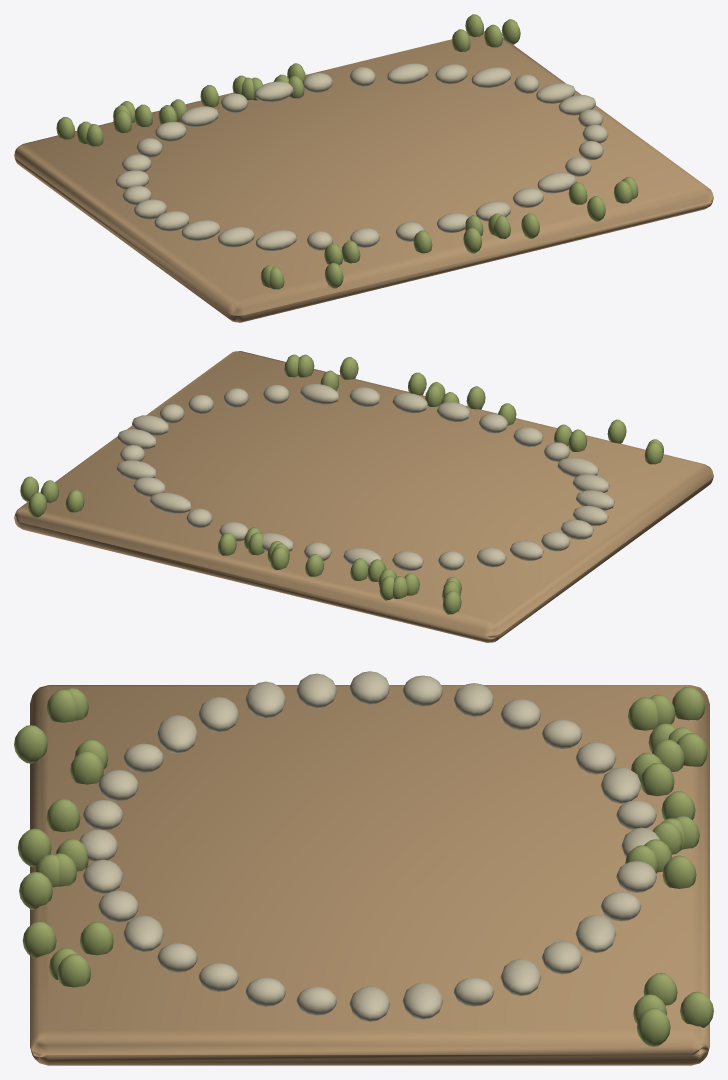
File: excavation.glb
The picture shows the model from 3 angles, top to bottom: view 1: azimuth 30°, elevation 25°; view 2: azimuth 150°, elevation 25°; view 3: azimuth 270°, elevation 25°; orthographic projection. The views are drawn at different scales.
Visible parts, largest first — view 1: Earth base, Edge stone.005, Edge stone.020, Edge stone.003, Edge stone.008, Edge stone.018, Edge stone.027, Edge stone.010, Edge stone.001, Edge stone.019, Edge stone.017, Edge stone (+7 smaller); view 2: Earth base, Edge stone.005, Edge stone.027, Edge stone.020, Edge stone.003, Edge stone.001, Edge stone.018, Edge stone.025, Edge stone, Edge stone.014, Edge stone.017, Edge stone.024 (+9 smaller); view 3: Earth base, Edge stone.005, Edge stone.020, Edge stone.003, Edge stone.027, Edge stone.001, Edge stone.018, Edge stone.010, Edge stone, Edge stone.019, Edge stone.017, Edge stone.025 (+40 smaller).
Boxes of the visible parts, left/top/right/bottom form: Earth base: left=14, top=31, right=713, bottom=322; Edge stone.005: left=387, top=63, right=428, bottom=84; Edge stone.020: left=255, top=230, right=297, bottom=250; Edge stone.003: left=471, top=67, right=511, bottom=87; Edge stone.008: left=254, top=81, right=293, bottom=102; Edge stone.018: left=181, top=220, right=220, bottom=240; Edge stone.027: left=537, top=172, right=576, bottom=193; Edge stone.010: left=180, top=106, right=218, bottom=126; Edge stone.001: left=536, top=83, right=575, bottom=103; Edge stone.019: left=218, top=227, right=254, bottom=247; Edge stone.017: left=154, top=211, right=189, bottom=231; Edge stone: left=558, top=95, right=595, bottom=115; Earth base: left=14, top=351, right=713, bottom=642; Edge stone.005: left=150, top=492, right=191, bottom=513; Edge stone.027: left=300, top=384, right=339, bottom=404; Edge stone.020: left=557, top=457, right=598, bottom=477; Edge stone.003: left=116, top=460, right=156, bottom=480; Edge stone.001: left=117, top=429, right=156, bottom=449; Edge stone.018: left=576, top=490, right=614, bottom=510; Edge stone.025: left=392, top=393, right=427, bottom=413; Edge stone: left=132, top=415, right=169, bottom=435; Edge stone.014: left=510, top=540, right=543, bottom=560; Edge stone.017: left=573, top=505, right=608, bottom=526; Edge stone.024: left=436, top=402, right=470, bottom=422; Earth base: left=30, top=685, right=709, bottom=1065; Edge stone.005: left=575, top=914, right=616, bottom=953; Edge stone.020: left=157, top=715, right=197, bottom=753; Edge stone.003: left=500, top=958, right=541, bottom=996; Edge stone.027: left=123, top=915, right=163, bottom=952; Edge stone.001: left=402, top=982, right=443, bottom=1019; Edge stone.018: left=245, top=681, right=285, bottom=718; Edge stone.010: left=600, top=767, right=641, bottom=803; Edge stone: left=349, top=986, right=390, bottom=1021; Edge stone.019: left=198, top=697, right=238, bottom=732; Edge stone.017: left=296, top=673, right=336, bottom=708; Edge stone.025: left=83, top=859, right=123, bottom=894.
Size of the model in its own units: 5.06 by 0.4 by 4.12.
